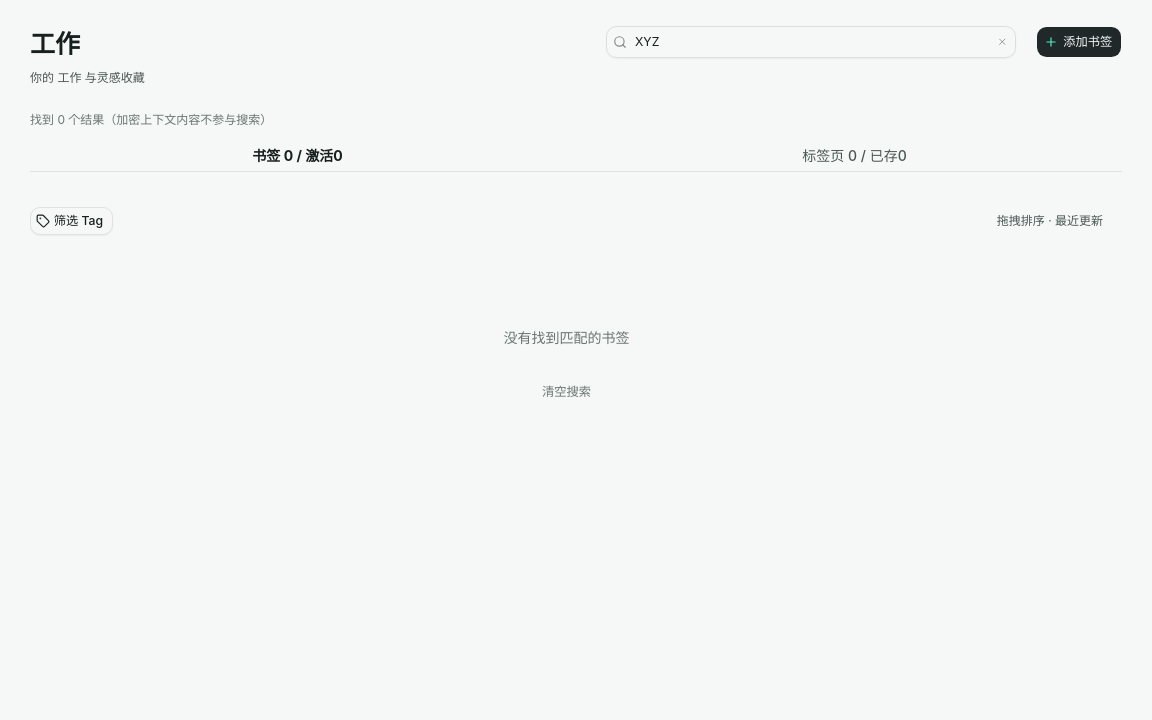
Test: #53 组合空状态 + 清除入口 › 文本搜索 + Tag 筛选均无结果 → 显示组合空状态与清除入口
# 选中一个 Tag，与搜索词组合后无结果
Click the button "筛选 Tag": (71, 221) x1=30 y1=207 x2=113 y2=235
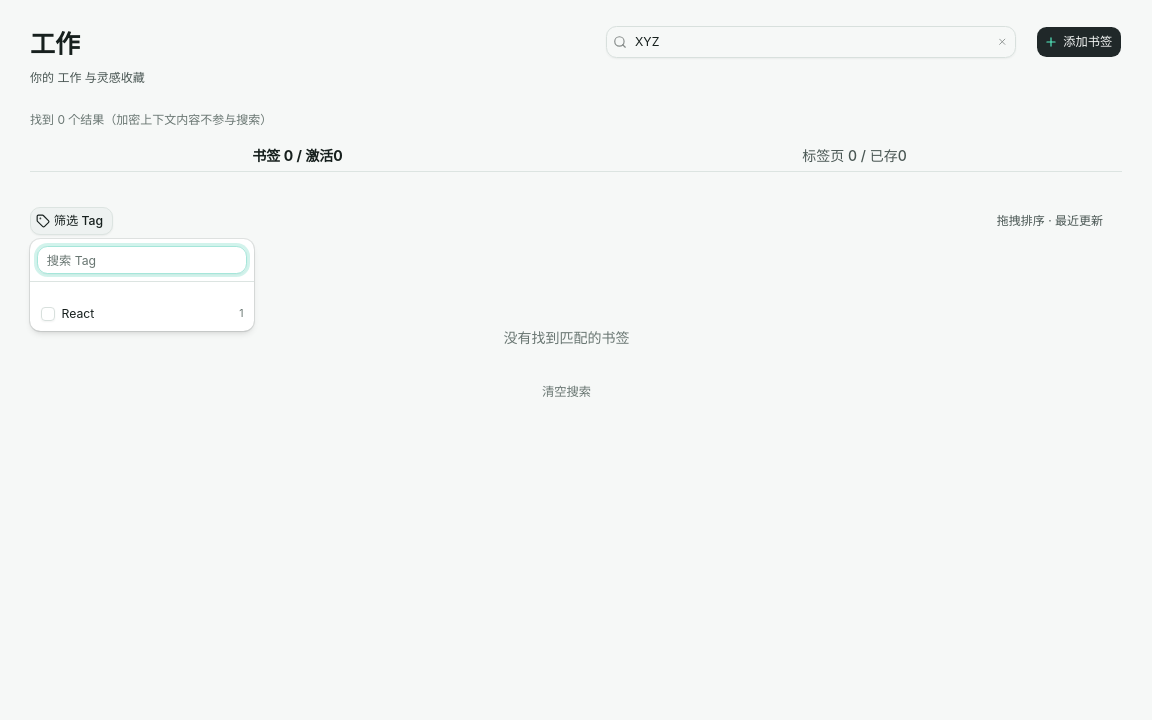
Click the checkbox named "React": (48, 314) x1=40 y1=306 x2=54 y2=320
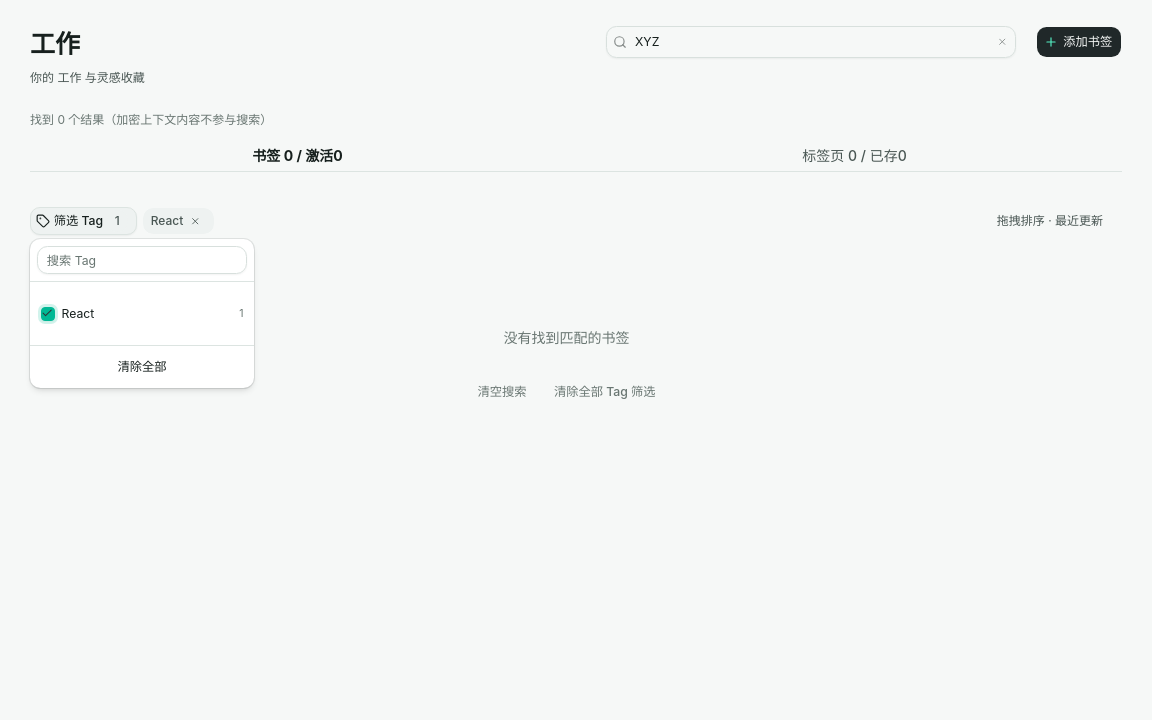
Expected: the text "没有找到匹配的书签" is shown, x1=504 y1=327 x2=630 y2=349
Now the button "清除全部 Tag 筛选" is shown, box x1=544 y1=377 x2=665 y2=405
